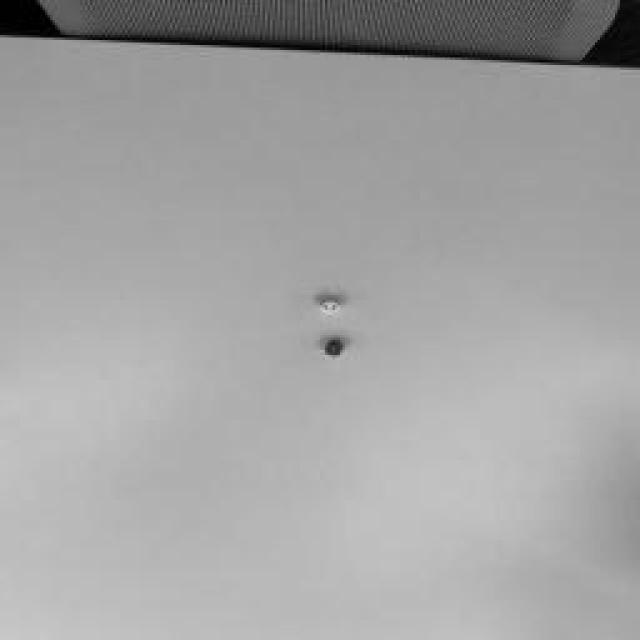dice_1: (326, 344, 342, 356)
dice_2: (321, 301, 339, 314)
